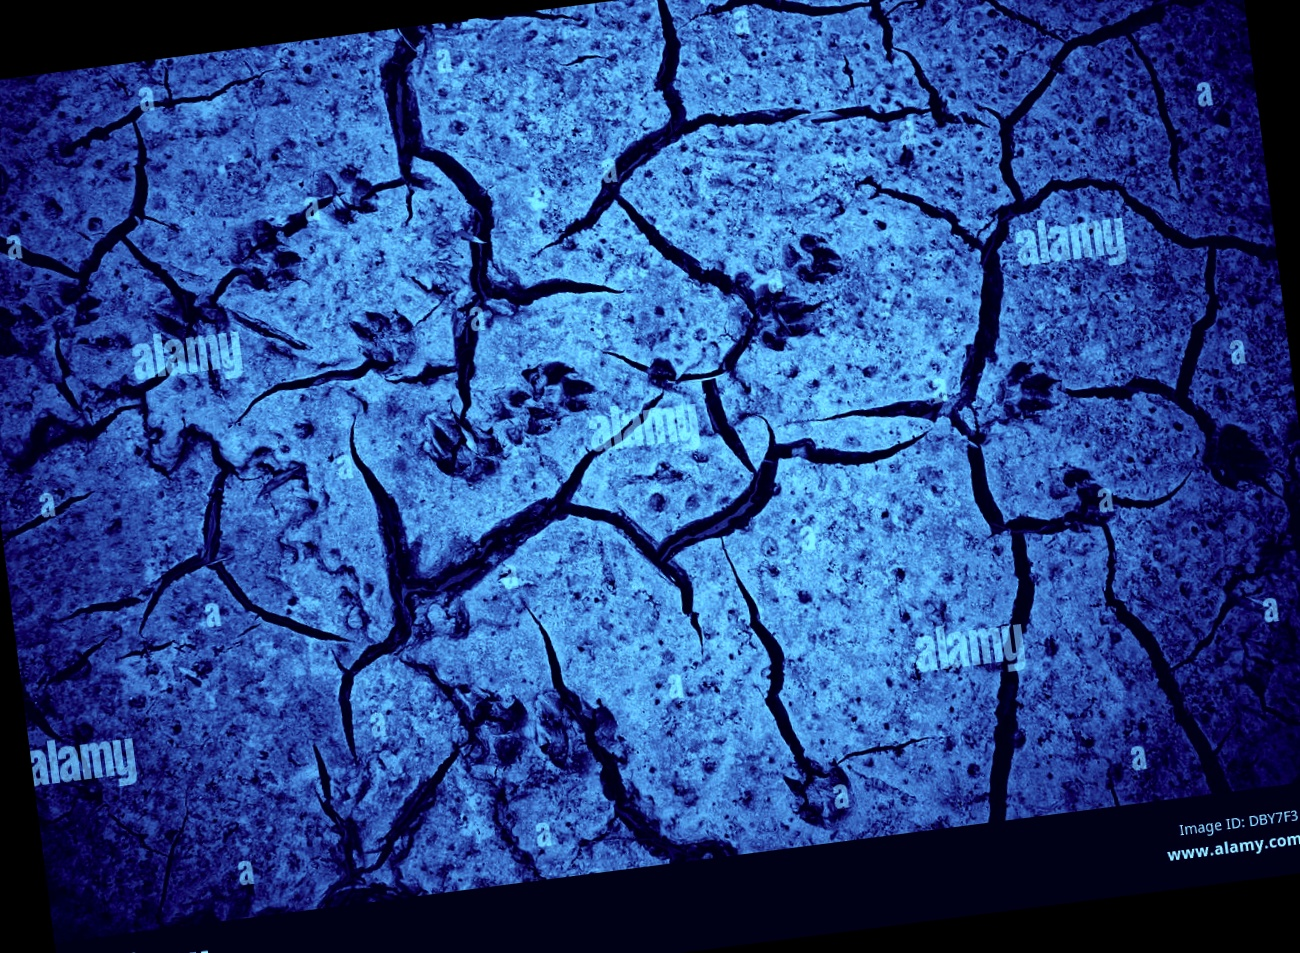loup: (394, 637, 611, 770), (417, 350, 626, 468), (724, 232, 893, 370), (239, 121, 419, 248), (735, 238, 893, 373), (716, 745, 875, 867), (962, 377, 1088, 476), (1019, 497, 1101, 592), (364, 260, 453, 344)
